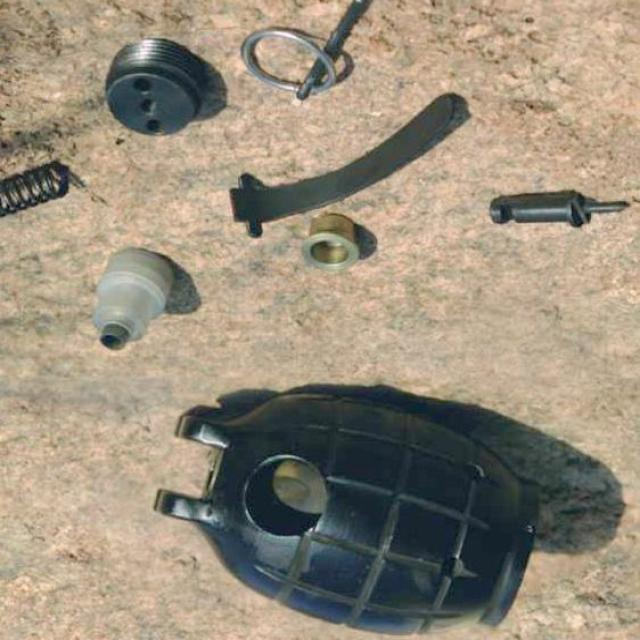grenade: (153, 387, 537, 632)
